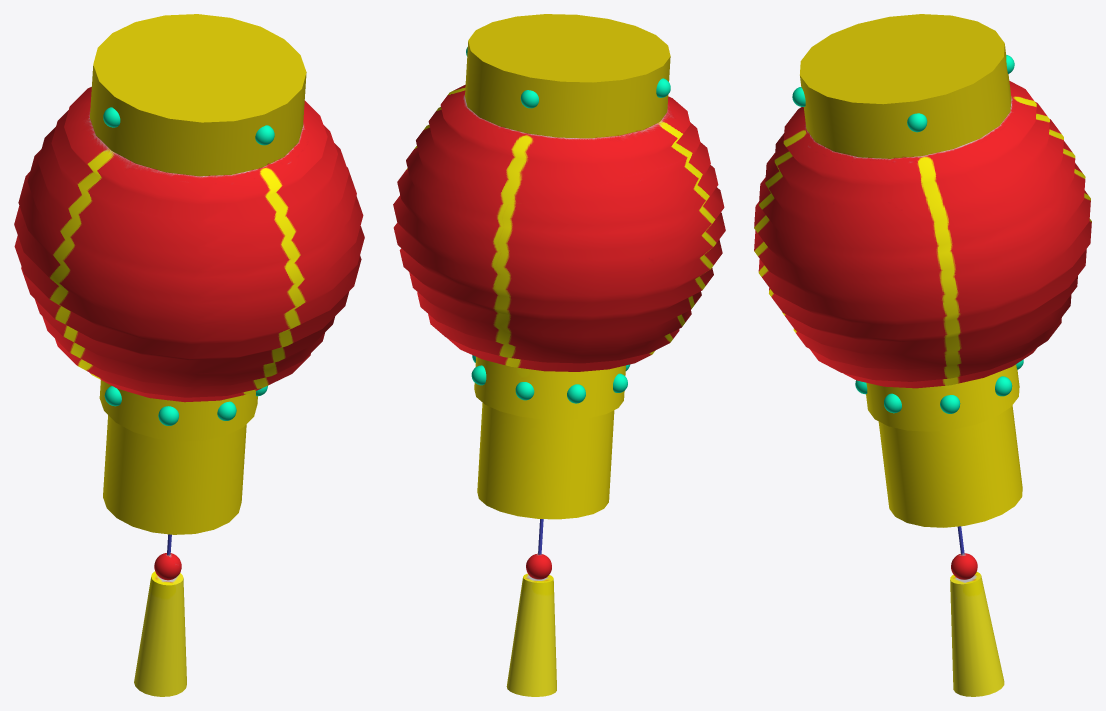
The model's file is lantern.fbx.
The picture shows the model from 3 angles, left to right: view 1: azimuth 30°, elevation 25°; view 2: azimuth 150°, elevation 25°; view 3: azimuth 270°, elevation 25°; orthographic projection. The views are drawn at different scales.
Visible parts, largest first — view 1: node_id4, node_id6, node_id8, node_id59, node_id57; view 2: node_id4, node_id6, node_id8, node_id59, node_id57; view 3: node_id4, node_id6, node_id8, node_id59, node_id57.
Boxes of the visible parts, x1,y1,x2,y2 form: node_id4: [14, 87, 364, 402]; node_id6: [90, 14, 306, 176]; node_id8: [99, 380, 257, 534]; node_id59: [134, 571, 186, 696]; node_id57: [154, 553, 181, 580]; node_id4: [393, 84, 725, 371]; node_id6: [465, 14, 670, 138]; node_id8: [474, 356, 625, 519]; node_id59: [506, 573, 556, 696]; node_id57: [526, 553, 551, 579]; node_id4: [754, 81, 1091, 388]; node_id6: [800, 14, 1011, 158]; node_id8: [866, 364, 1022, 527]; node_id59: [950, 572, 1004, 696]; node_id57: [951, 553, 977, 579].
Size of the model in its own units: 0.2496 by 0.5193 by 0.2487.
18 materials, 6 textured.
